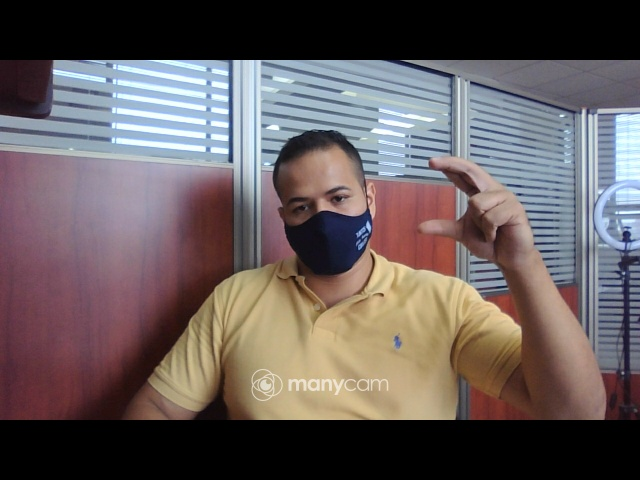No: (411, 154, 553, 267)
